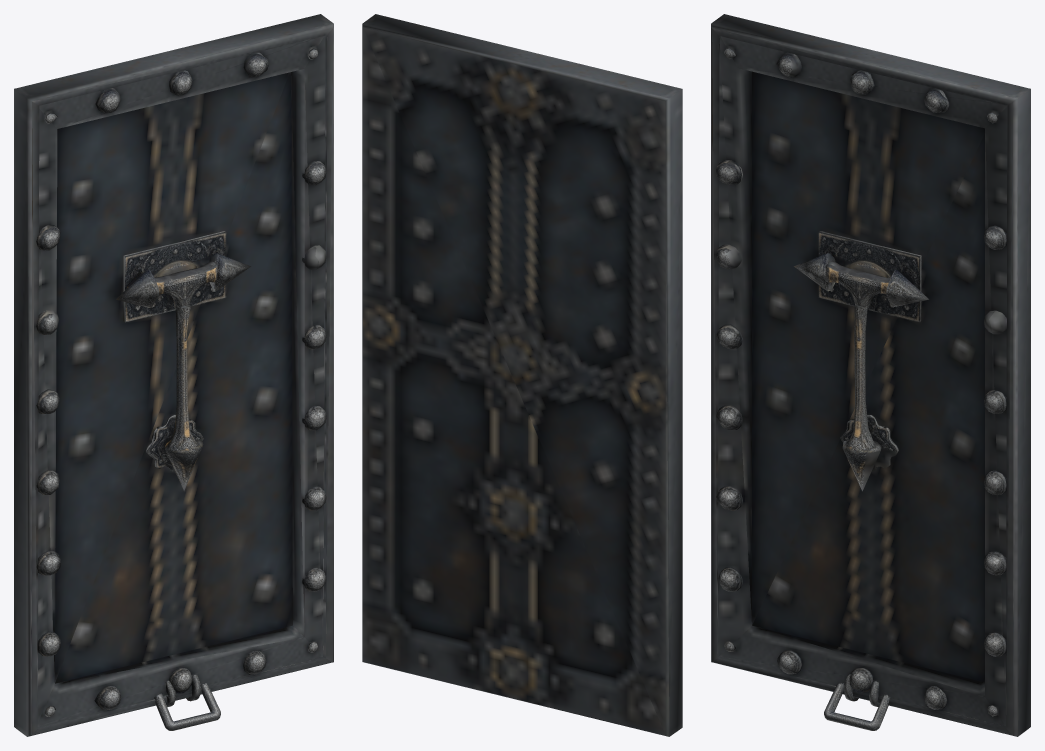
The model's file is tower_shield.glb.
3 views of the same model, side by side, from view 1: azimuth 30°, elevation 25°; view 2: azimuth 150°, elevation 25°; view 3: azimuth 330°, elevation 25° (orthographic).
Bounding box in the file's own units: 0.4663 × 0.9512 × 0.0786.
1 material, 1 textured.
